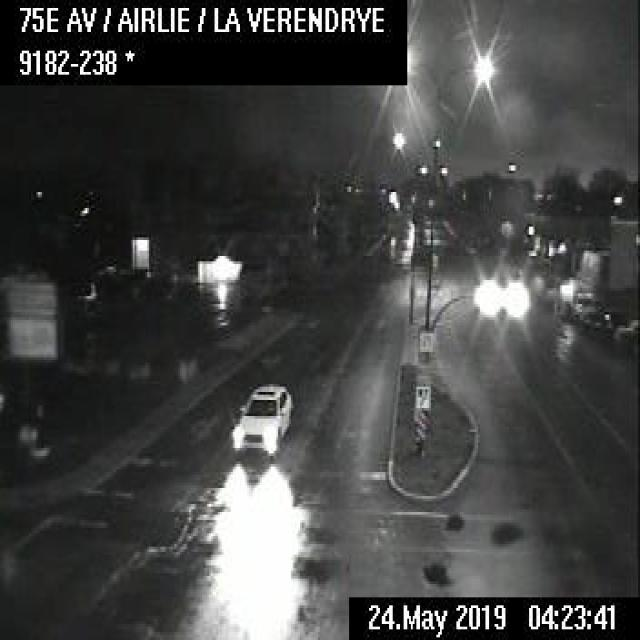vehicle: (229, 381, 291, 456)
